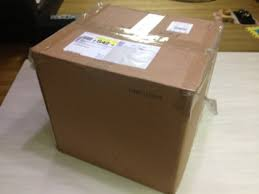undamaged: (29, 3, 225, 193)
